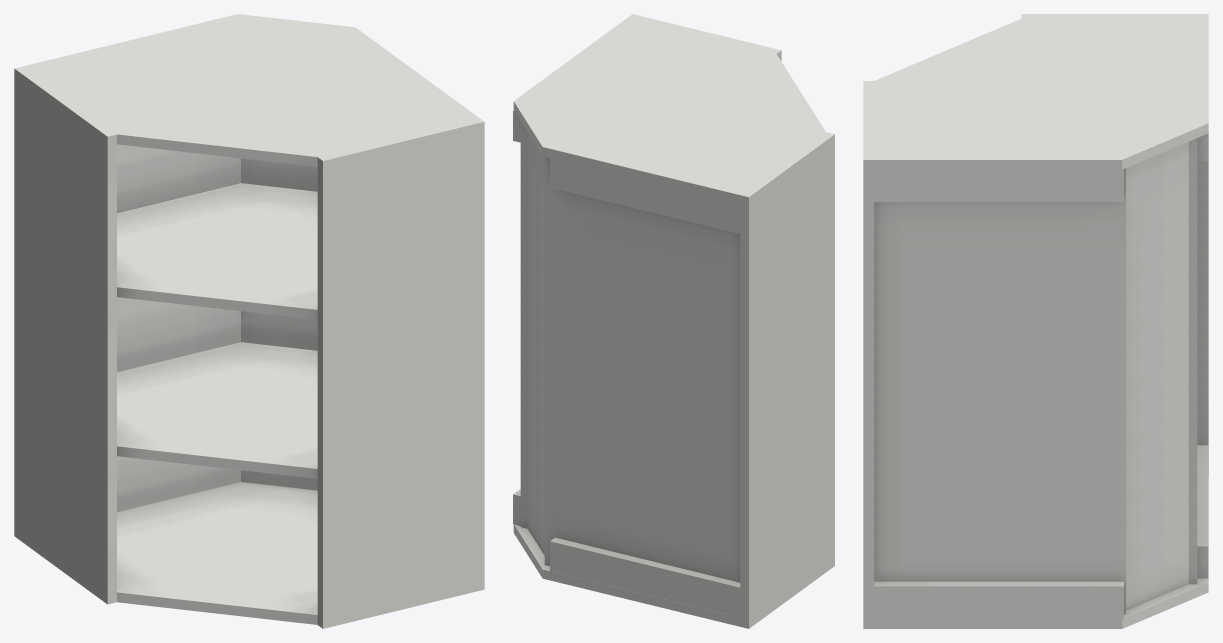
Rendered from wall-45-corner-doors-off.glb.
The picture shows the model from 3 angles, left to right: view 1: azimuth 30°, elevation 25°; view 2: azimuth 150°, elevation 25°; view 3: azimuth 270°, elevation 25°; orthographic projection. The views are drawn at different scales.
Parts seen in each view (by area): view 1: part_0; view 2: part_0; view 3: part_0.
Boxes of the visible parts, box(x1,y1,x2,y2) form: part_0: box(14, 14, 484, 628); part_0: box(513, 14, 834, 628); part_0: box(863, 14, 1208, 628).
Size of the model in its own units: 0.6096 by 0.9144 by 0.6096.
1 material, 1 textured.
